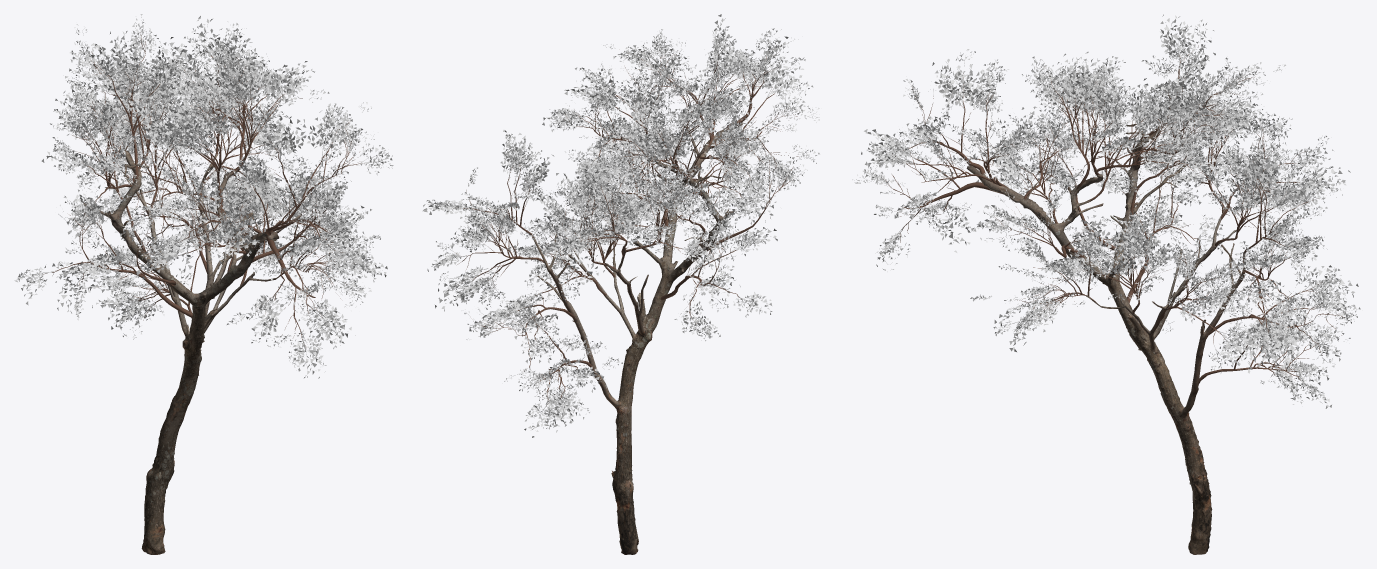
File: TreeSmall_LOD0.fbx
3 renders of one model, left to right at view 1: azimuth 30°, elevation 25°; view 2: azimuth 150°, elevation 25°; view 3: azimuth 270°, elevation 25°, orthographic. The views are drawn at different scales.
Parts seen in each view (by area): view 1: TreeSmall_LOD0; view 2: TreeSmall_LOD0; view 3: TreeSmall_LOD0.
Part boxes in pixels (x1=…): TreeSmall_LOD0: x1=14, y1=14, x2=393, y2=554; TreeSmall_LOD0: x1=422, y1=14, x2=819, y2=554; TreeSmall_LOD0: x1=852, y1=14, x2=1360, y2=554.
Bounding box in the file's own units: 2.91 × 4.58 × 4.24.
